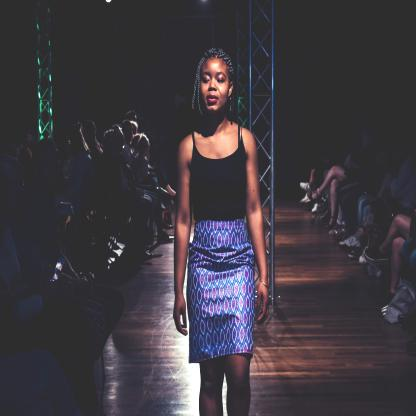jacket: (181, 214, 262, 367), (181, 117, 255, 225)
